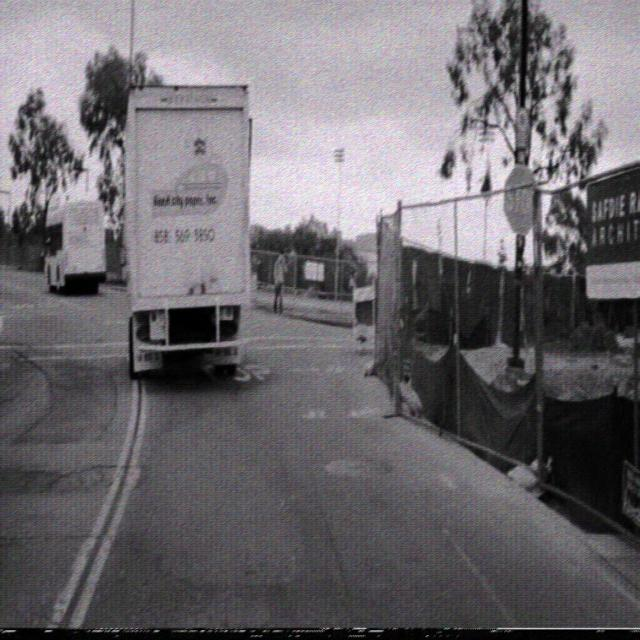stop: (502, 162, 540, 235)
